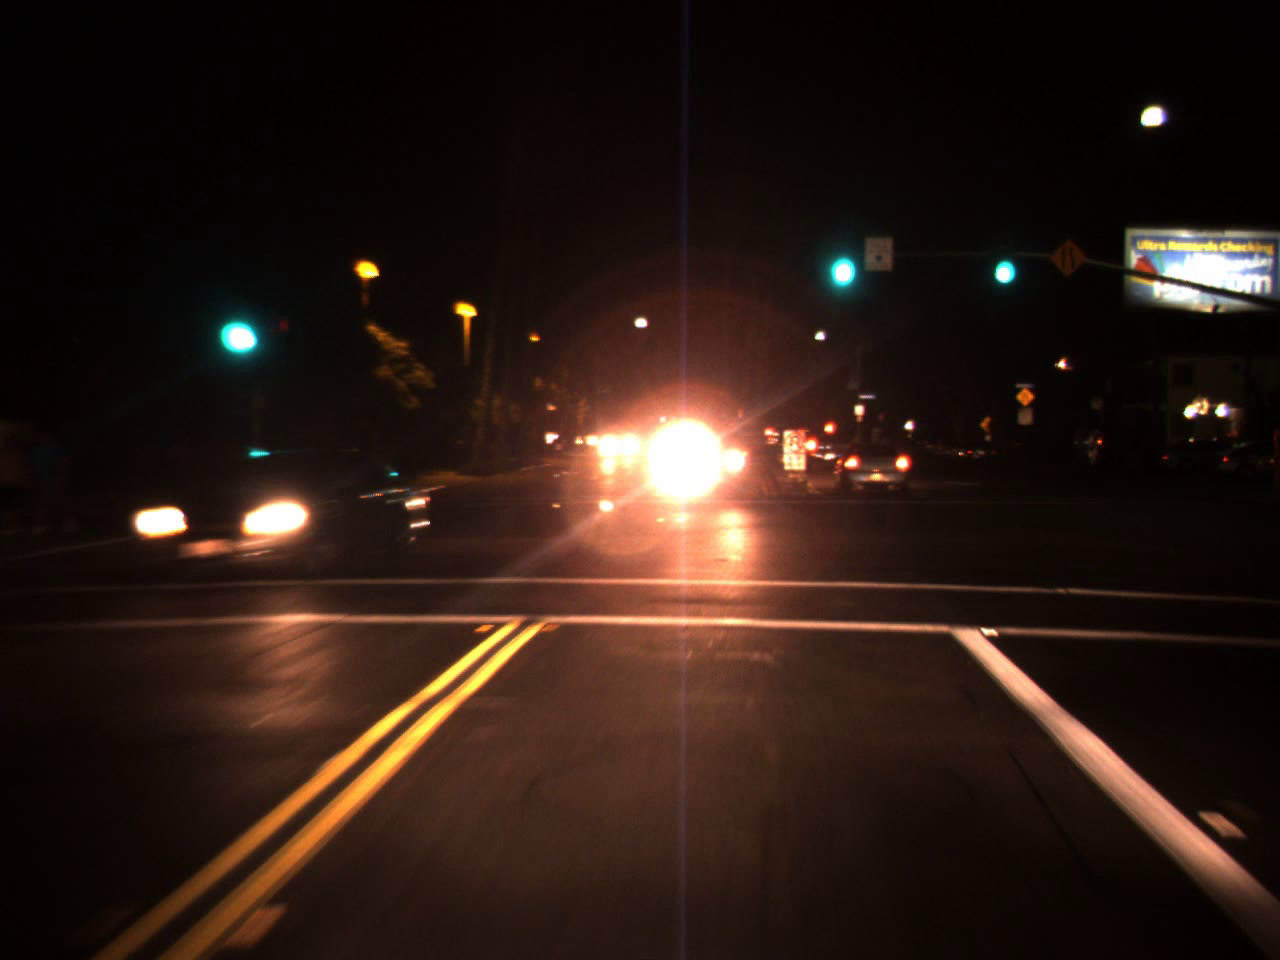go: (213, 283, 263, 364), (820, 218, 861, 299), (987, 230, 1019, 293)
